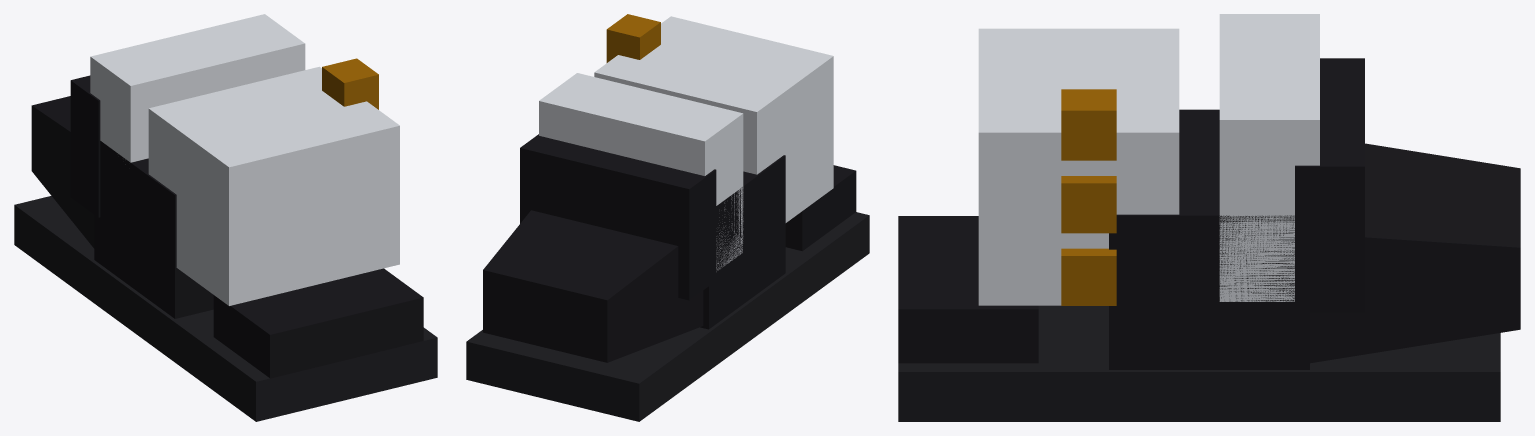
The model's file is Move_Plus1.fbx.
3 renders of one model, left to right at view 1: azimuth 30°, elevation 25°; view 2: azimuth 150°, elevation 25°; view 3: azimuth 270°, elevation 25°, orthographic. The views are drawn at different scales.
Parts seen in each view (by area): view 1: Move_Plus1; view 2: Move_Plus1; view 3: Move_Plus1.
Part boxes in pixels (x1,y1,x2,y2): Move_Plus1: [14, 14, 437, 421]; Move_Plus1: [466, 14, 869, 421]; Move_Plus1: [898, 14, 1520, 421].
Bounding box in the file's own units: 27 × 34.7 × 62.
